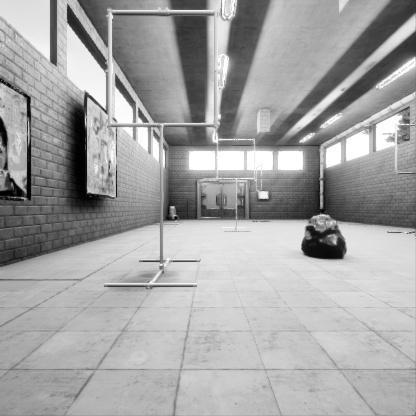gate: (114, 290, 224, 399), (218, 237, 257, 277), (398, 245, 416, 294), (256, 225, 262, 253)
